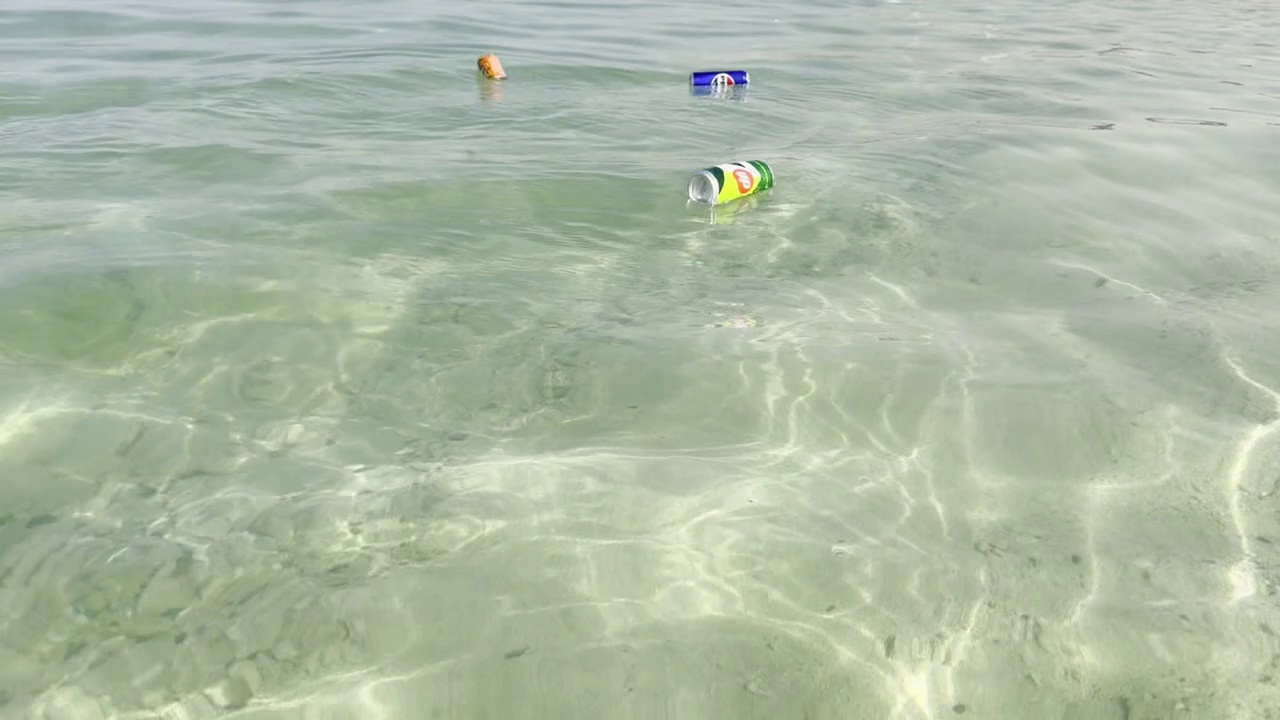debris: (678, 155, 774, 216), (686, 66, 752, 96), (472, 49, 512, 92)
